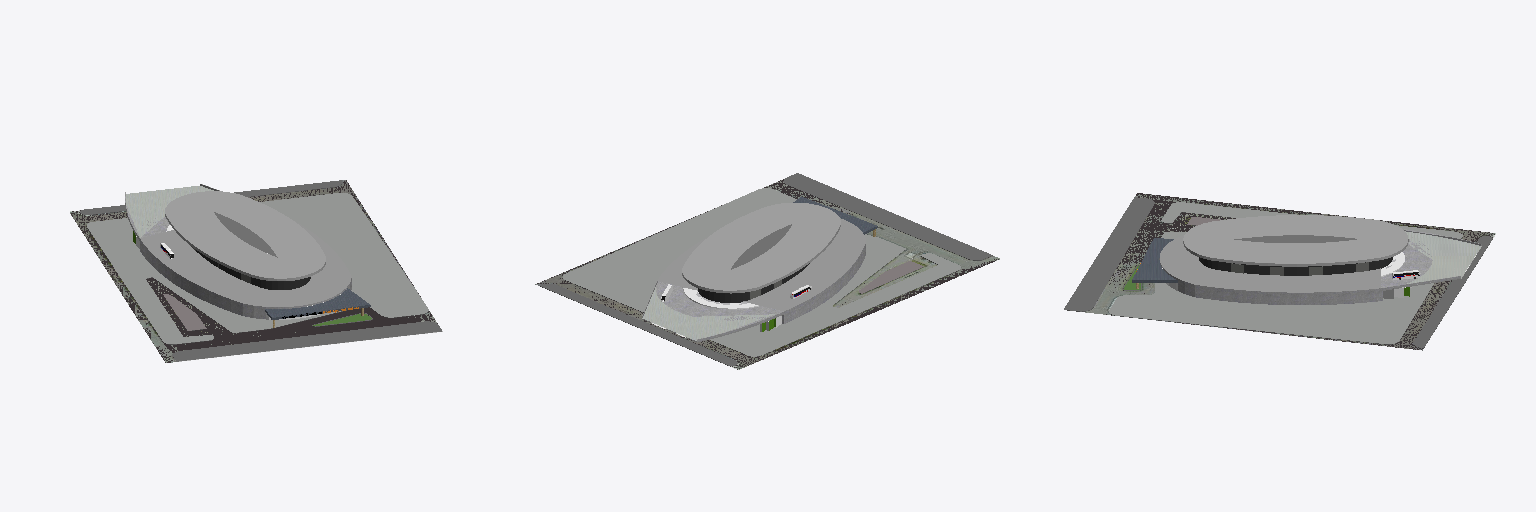
3 renders of one model, left to right at view 1: azimuth 30°, elevation 25°; view 2: azimuth 150°, elevation 25°; view 3: azimuth 270°, elevation 25°, orthographic.
Visible parts, largest first — view 1: Mesh583 Model, Mesh97 Componente_14_1 Model, Mesh592 Model, Mesh113 Componente_14_1 Model, Mesh591 Model; view 2: Mesh583 Model, Mesh97 Componente_14_1 Model, Mesh592 Model, Mesh113 Componente_14_1 Model, Mesh591 Model; view 3: Mesh583 Model, Mesh97 Componente_14_1 Model, Mesh592 Model, Mesh113 Componente_14_1 Model.
Boxes of the visible parts, <box> form: Mesh583 Model: <box>70,180,442,362</box>; Mesh97 Componente_14_1 Model: <box>125,184,351,308</box>; Mesh592 Model: <box>80,180,342,214</box>; Mesh113 Componente_14_1 Model: <box>214,212,277,257</box>; Mesh591 Model: <box>163,294,206,330</box>; Mesh583 Model: <box>535,173,999,369</box>; Mesh97 Componente_14_1 Model: <box>642,203,865,342</box>; Mesh592 Model: <box>539,284,737,365</box>; Mesh113 Componente_14_1 Model: <box>731,224,791,269</box>; Mesh591 Model: <box>859,261,923,293</box>; Mesh583 Model: <box>1064,193,1495,350</box>; Mesh97 Componente_14_1 Model: <box>1159,215,1481,294</box>; Mesh592 Model: <box>1413,236,1492,348</box>; Mesh113 Componente_14_1 Model: <box>1234,235,1356,242</box>.
Bounding box in the file's own units: 18920 × 1756 × 21958.
Materials: 48 (7 with a texture image).